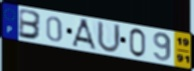0: (128, 28, 147, 58), (45, 15, 65, 43)
9: (152, 32, 173, 63)
A: (71, 19, 99, 52)
B: (17, 8, 43, 41)
U: (96, 20, 122, 55)
